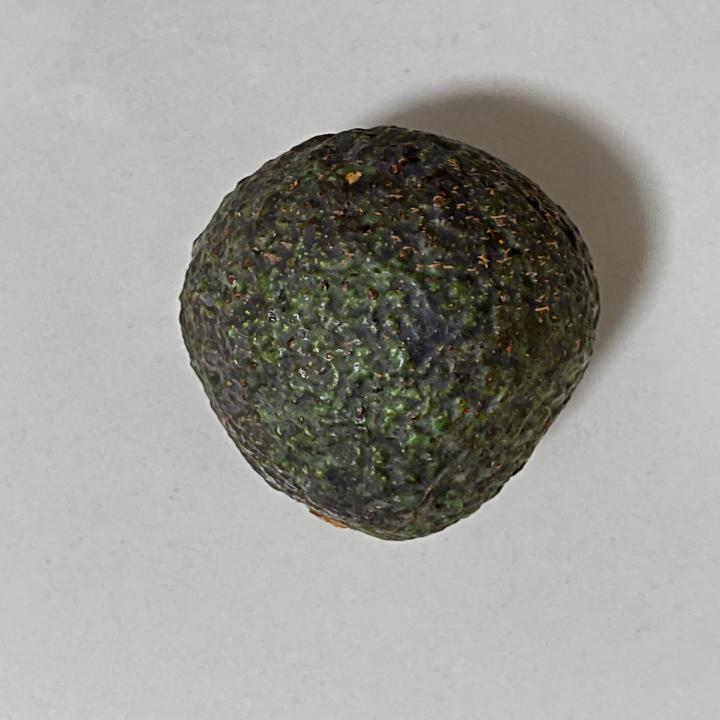Level1: (167, 115, 613, 557)
